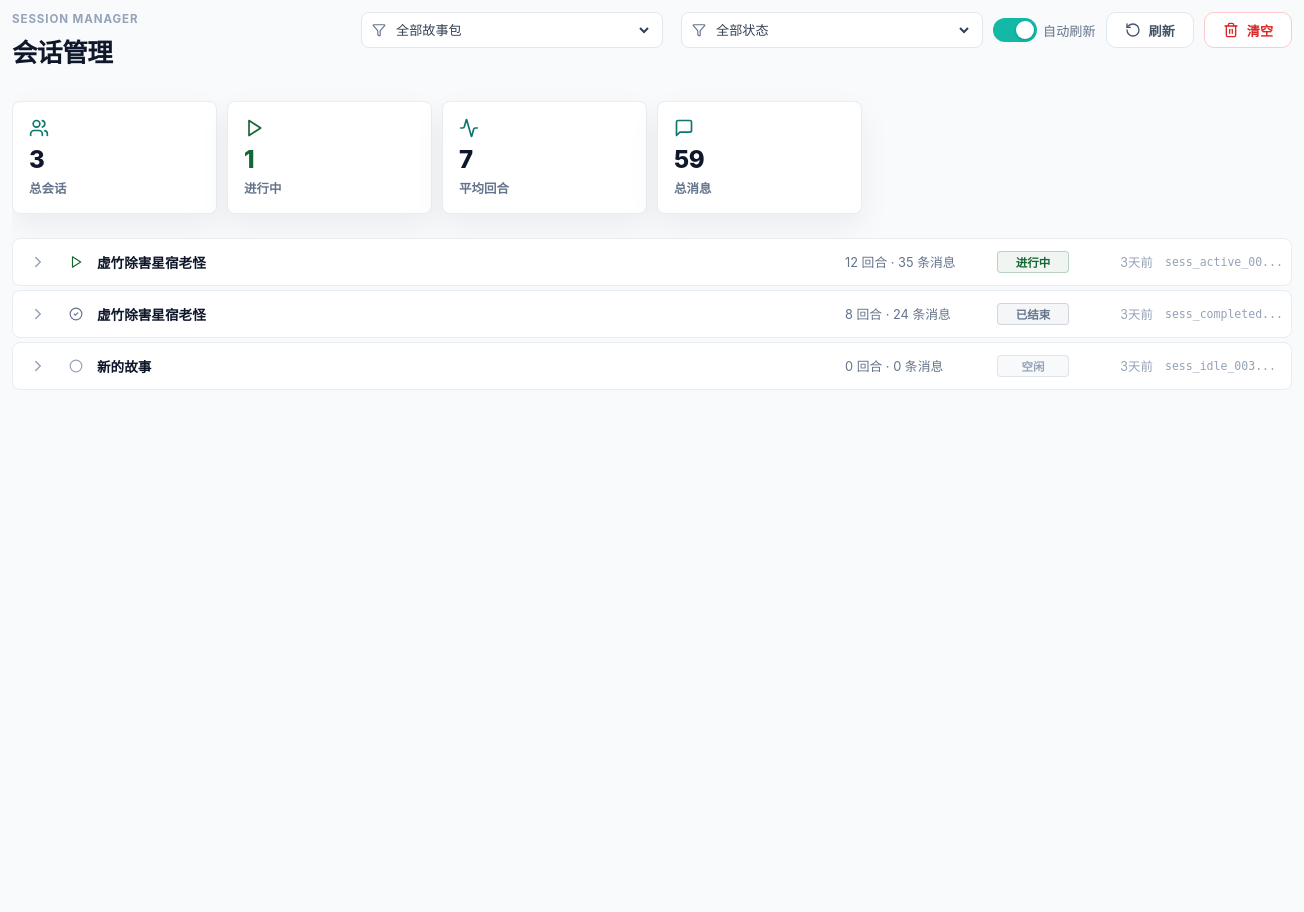
it: SessionList › expands session row on click and shows detail tabs
The width and height of the screenshot is (1304, 912).
Click the 1st button with class "session-row-main" at (151, 263), box [13,239,1291,285]
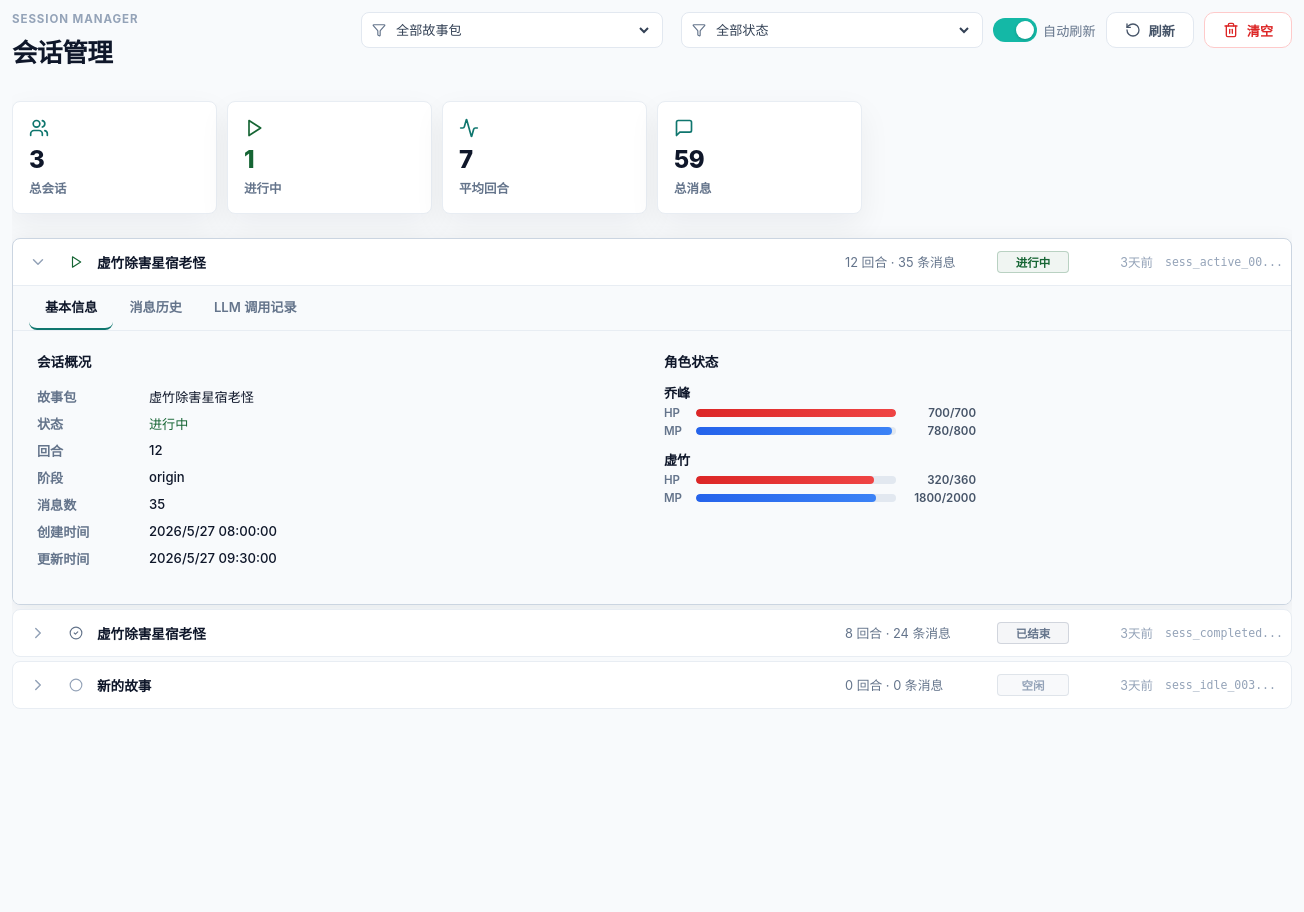
Expected: the button "基本信息" is shown, [29,286,114,330]
Expected: the button "消息历史" is shown, [114,286,198,330]
Expected: the button "LLM 调用记录" is shown, [198,286,313,330]
